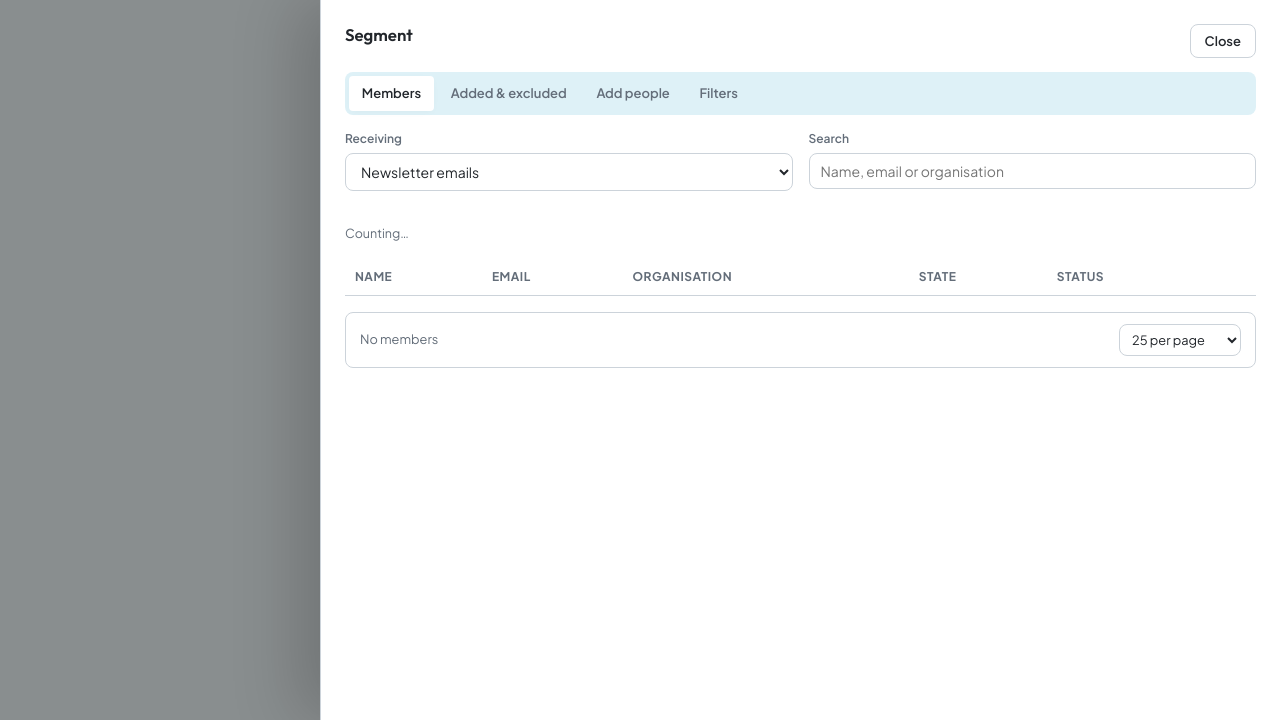
SegmentDrawer › saves edited criteria
This screenshot has width=1280, height=720.
Click the tab with test id "segment-tab-filters": coordinates (719, 94) [687,76,751,111]
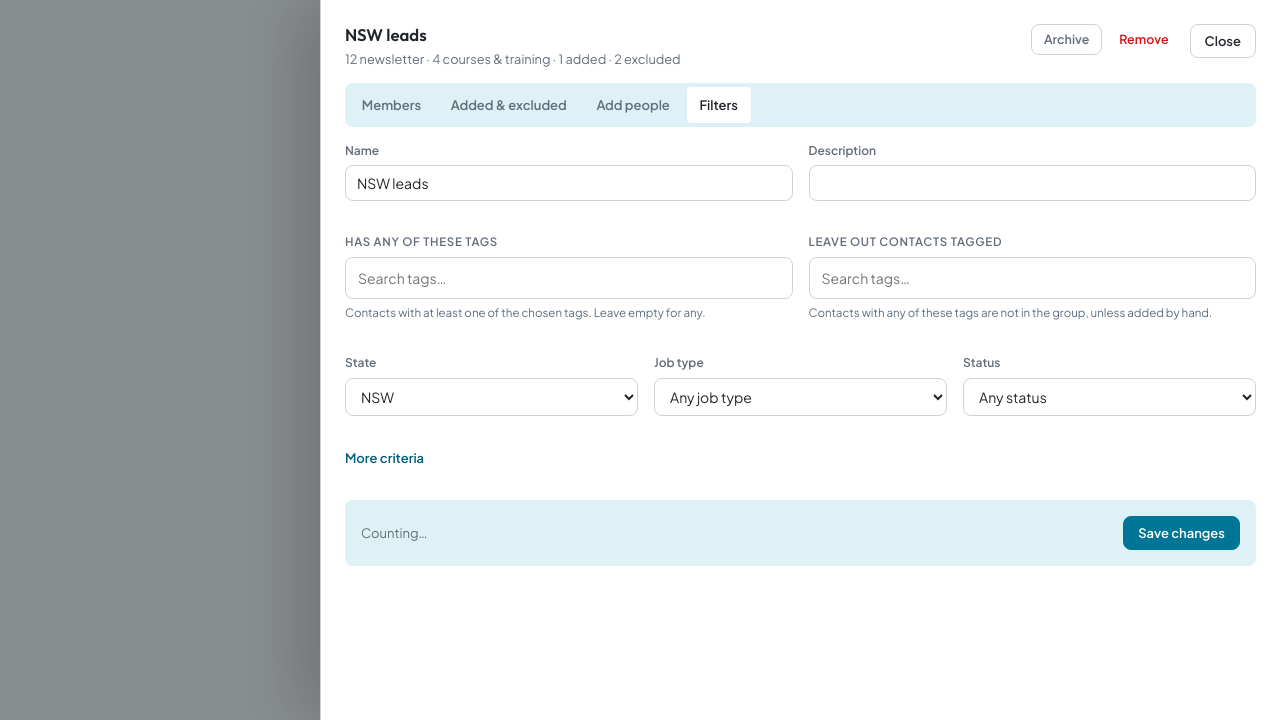
Select "VIC" in the dropdown with test id "edit-segment-state": coordinates (492, 396) [345,378,638,416]
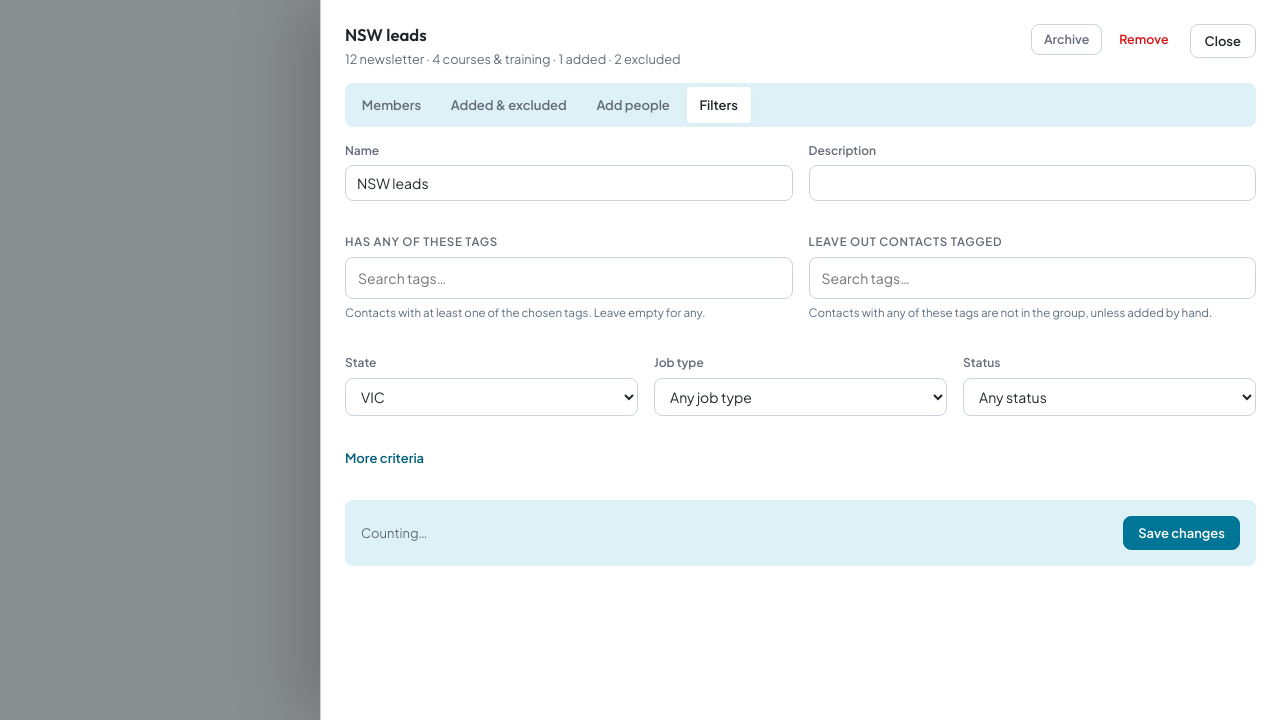
Click the button with test id "save-segment": coordinates (1182, 533) [1123,516,1240,550]
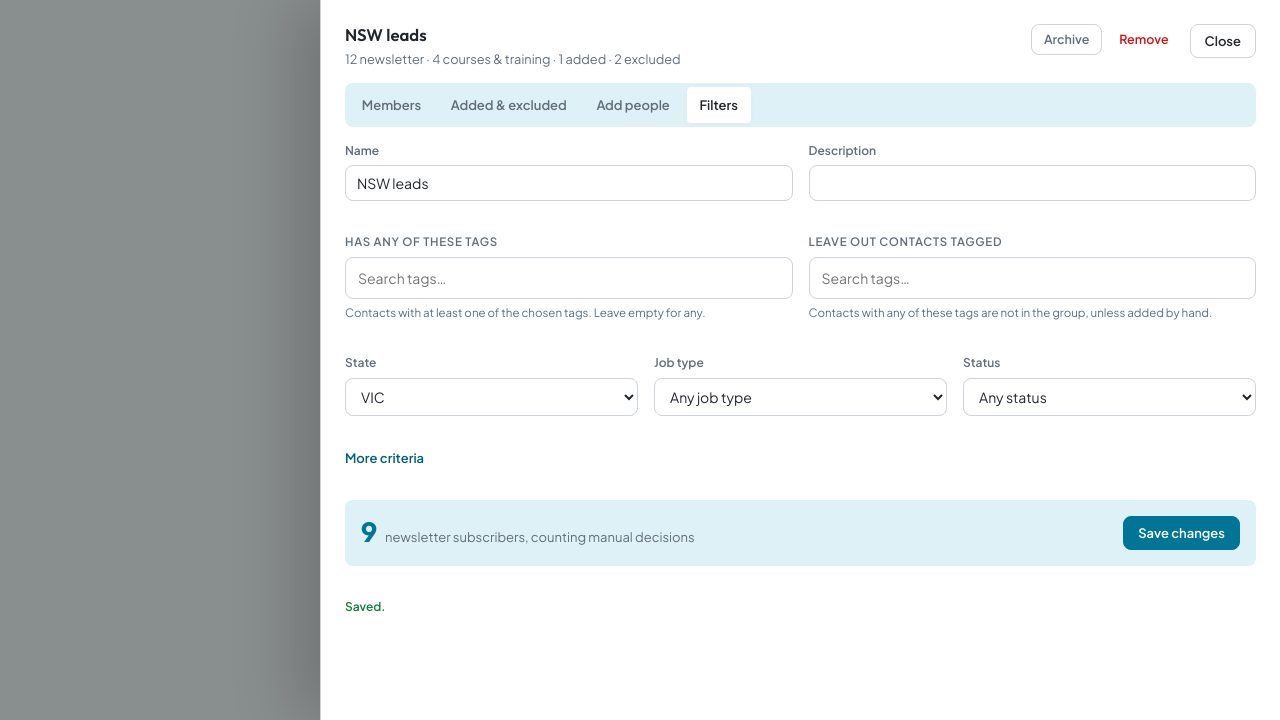
Expected: the message reads "Saved.", [345,599,386,614]
